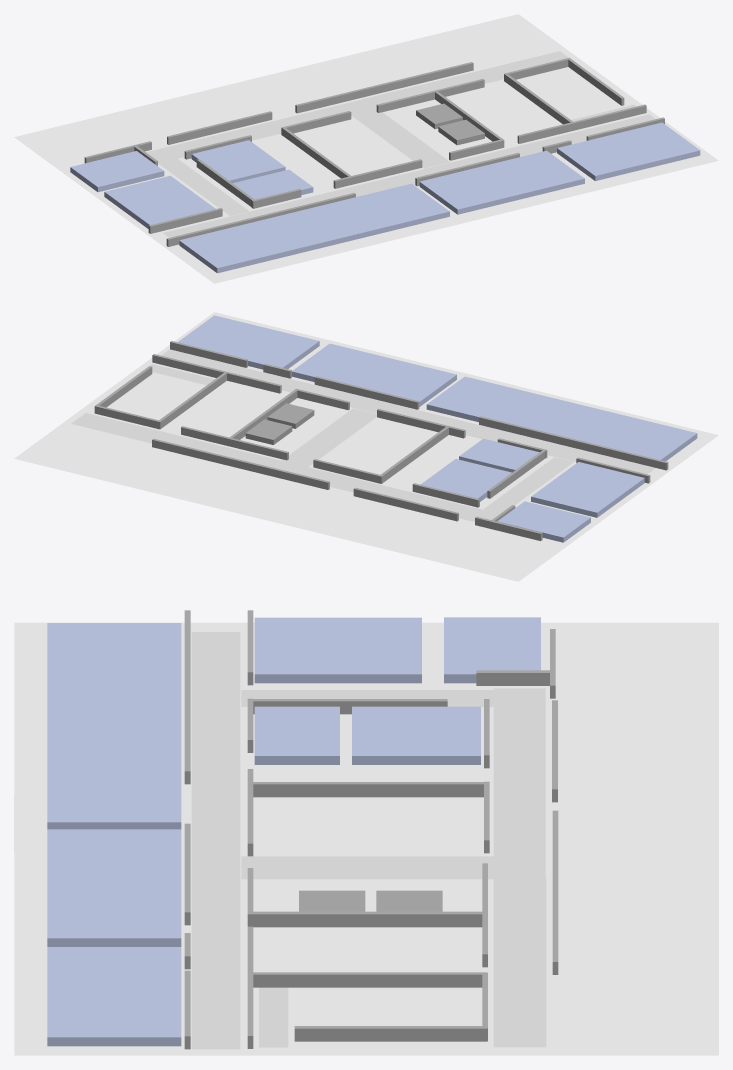
Rendered from RBH Demo Map FF.glb.
3 views of the same model, one above another, from view 1: azimuth 30°, elevation 25°; view 2: azimuth 150°, elevation 25°; view 3: azimuth 270°, elevation 25° (orthographic). The views are drawn at different scales.
Parts seen in each view (by area): view 1: Plane (1) (×2), Plane, Cube (5) (×2), Cube (6) (×2), Cube (4), Plane (2) (×2), Plane (3), Plane (7), Cube (2), Cube (1) (×2), Cube (3) (×2), Cube (×2) (+17 smaller); view 2: Plane (1) (×2), Plane, Cube (5) (×2), Cube (6) (×2), Cube (4) (×2), Plane (2) (×2), Plane (7), Plane (3), Cube (2), Cube (1) (×2), Cube (3) (×2), Cube (×2) (+17 smaller); view 3: Plane (1) (×2), Plane, Cube (5), Plane (7), Plane (2) (×2), Cube (4), Plane (3), Cube (6) (×2), Cube (2), Cube (1) (×2), Cube (×2), Plane (8) (+12 smaller).
Boxes of the visible parts, box(x1,y1,x2,y2) form: Plane (1) (×2): box(146, 14, 718, 217); Plane: box(14, 87, 418, 283); Cube (5) (×2): box(167, 111, 449, 273); Cube (6) (×2): box(295, 62, 700, 180); Cube (4): box(419, 150, 584, 214); Plane (2) (×2): box(219, 51, 568, 136); Plane (3): box(293, 120, 483, 233); Plane (7): box(163, 114, 655, 237); Cube (2): box(104, 175, 215, 228); Cube (1) (×2): box(191, 120, 484, 183); Cube (3) (×2): box(70, 111, 351, 192); Cube (×2): box(233, 103, 462, 199); Plane (1) (×2): box(14, 312, 499, 521); Plane: box(314, 385, 718, 581); Cube (5) (×2): box(353, 376, 697, 521); Cube (6) (×2): box(152, 315, 329, 489); Cube (4) (×2): box(292, 343, 479, 507); Plane (2) (×2): box(71, 413, 378, 531); Plane (7): box(161, 349, 655, 474); Plane (3): box(317, 369, 513, 482); Cube (2): box(531, 462, 644, 517); Cube (1) (×2): box(267, 403, 511, 501); Cube (3) (×2): box(313, 459, 590, 542); Cube (×2): box(245, 419, 539, 472); Plane (1) (×2): box(14, 688, 718, 1055); Plane: box(14, 622, 718, 798); Cube (5): box(47, 623, 181, 829); Plane (7): box(191, 632, 240, 1049); Plane (2) (×2): box(483, 796, 718, 1047); Cube (4): box(47, 829, 181, 946); Plane (3): box(14, 796, 483, 853); Cube (6) (×2): box(47, 810, 558, 1046); Cube (2): box(254, 617, 421, 683); Cube (1) (×2): box(299, 706, 480, 911); Cube (×2): box(254, 706, 442, 911); Plane (8): box(241, 856, 494, 879).
Bounding box in the file's own units: 35.74 × 0.55 × 24.6.
